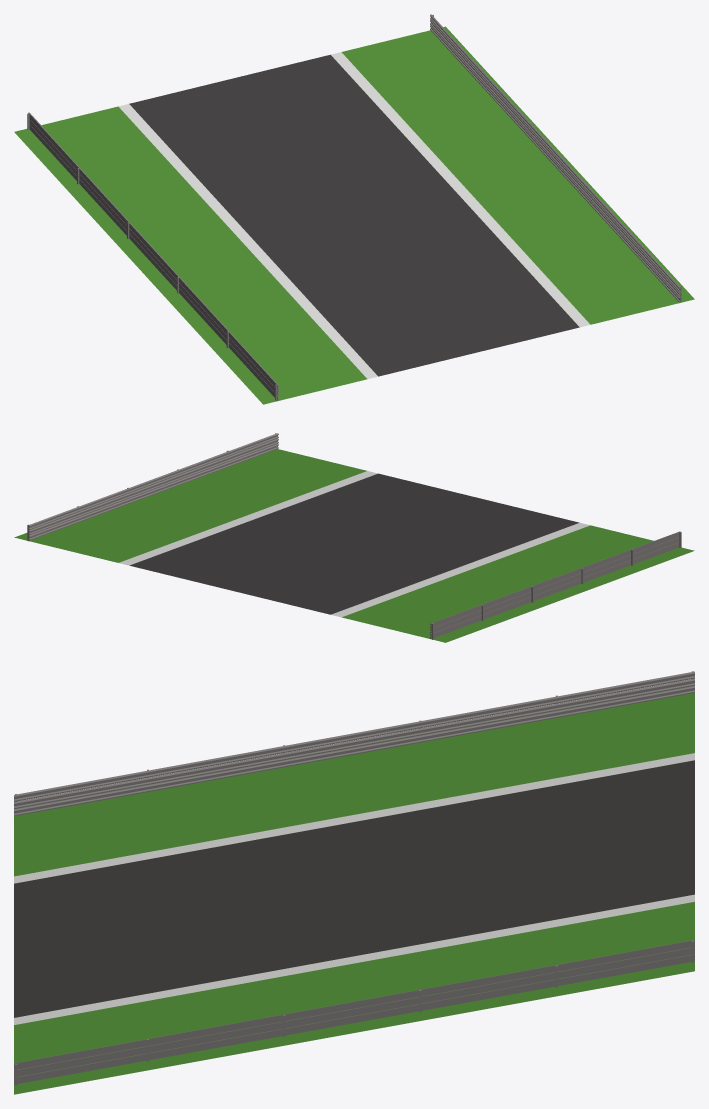
File: tiles-nb-tile-race-track-hill-nb.glb
3 views of the same model, one above another, from view 1: azimuth 30°, elevation 25°; view 2: azimuth 150°, elevation 25°; view 3: azimuth 270°, elevation 25° (orthographic). The views are drawn at different scales.
Visible parts, largest first — view 1: tile-race-track-hill-nb; view 2: tile-race-track-hill-nb; view 3: tile-race-track-hill-nb.
Boxes of the visible parts, <box> form: tile-race-track-hill-nb: <box>14,14,694,404</box>; tile-race-track-hill-nb: <box>14,433,694,642</box>; tile-race-track-hill-nb: <box>14,671,694,1094</box>.
Size of the model in its own units: 30 by 7.05 by 30.
